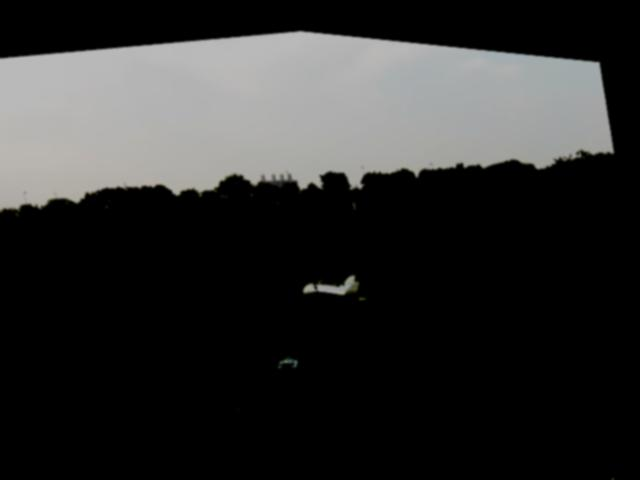plane: (302, 261, 368, 306)
